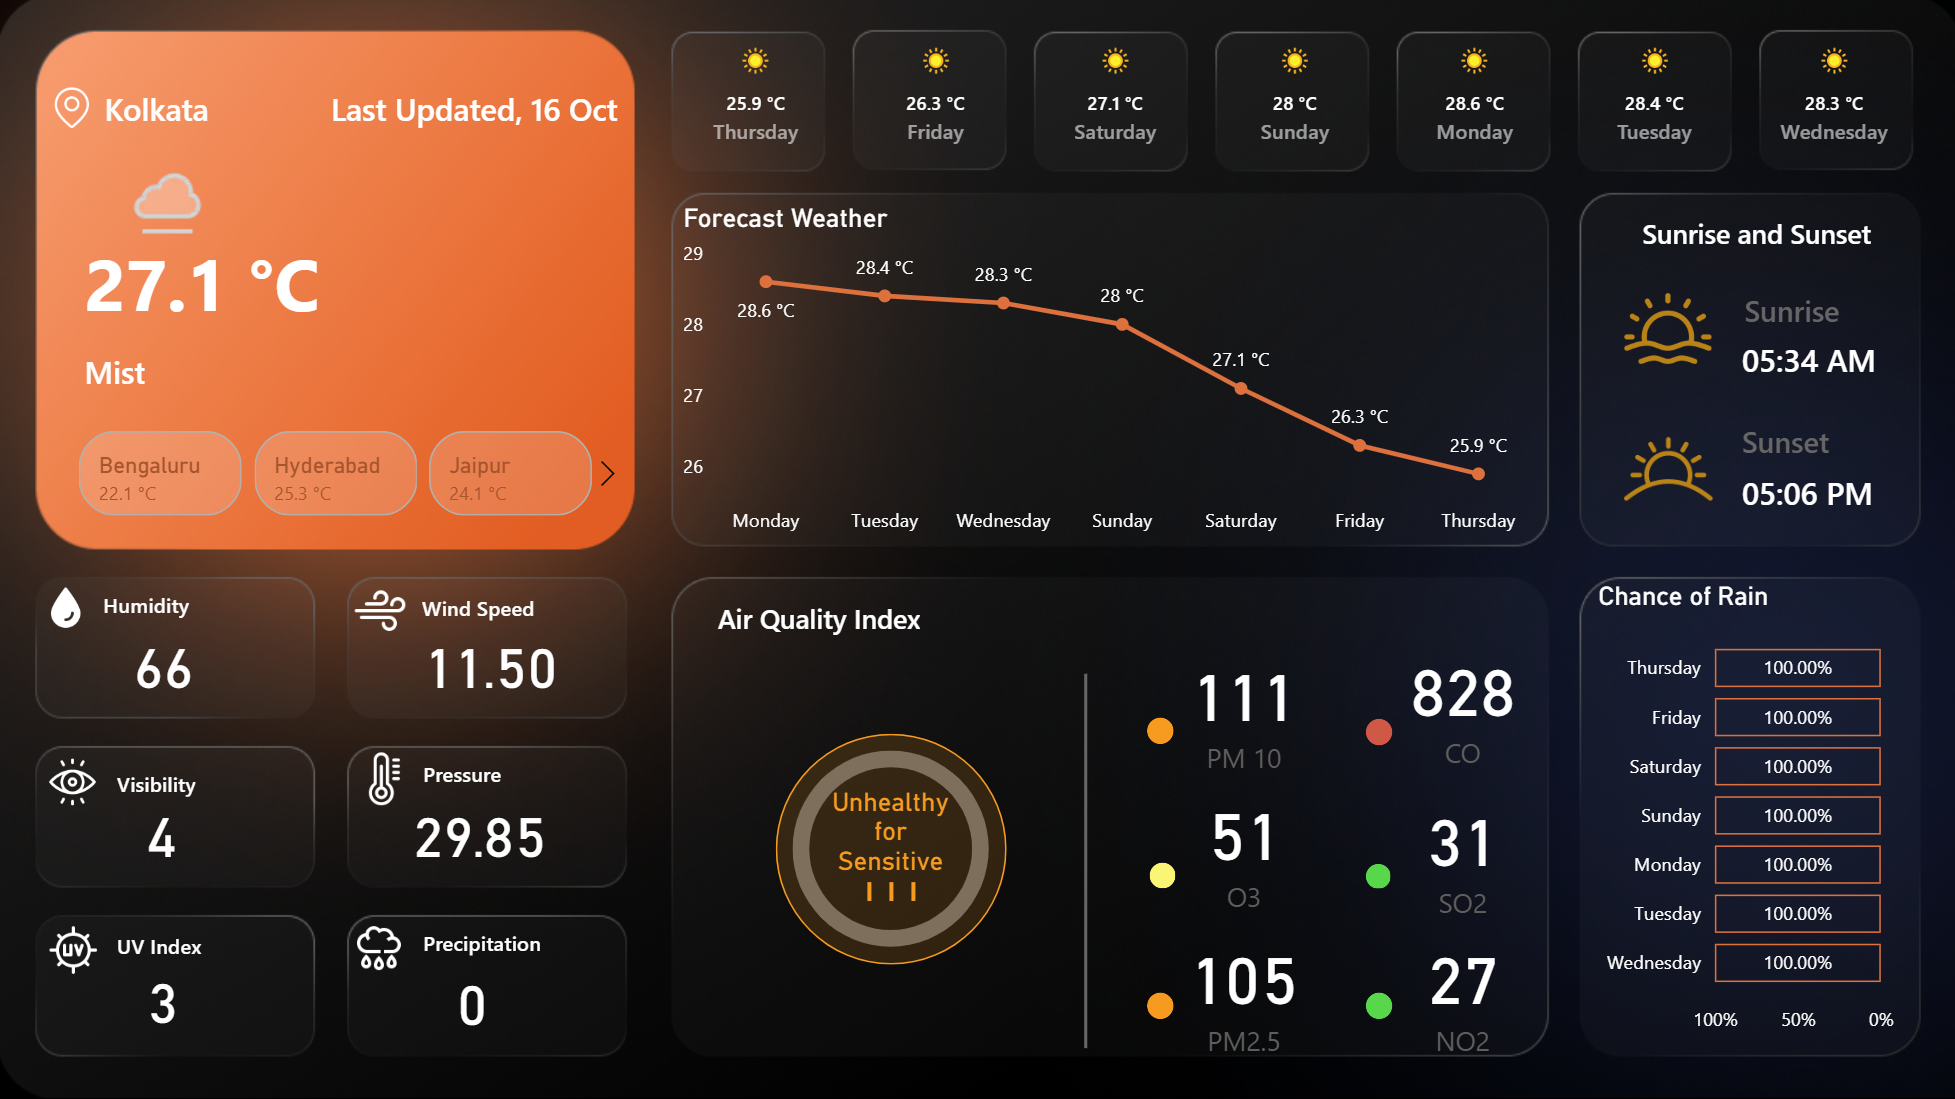

The dashboard page shown, as its layout file describes it:
{"tool":"powerbi","page":{"name":"Page 1","canvas":[1280,720],"ordinal":0},"visuals":[{"type":"advancedSlicerVisual","fields":{"Values":["Locations.location.name"]},"box":[28.4,279.1,384.5,65.6],"z":0},{"type":"shape","box":[56.7,155,230.3,60.2],"z":1000},{"type":"shape","box":[56.7,226.8,335.8,36.3],"z":2000},{"type":"shape","box":[70,54.9,128.5,36.3],"z":3000},{"type":"shape","box":[198.5,54.9,205.5,36.3],"z":4000},{"type":"image","box":[19.5,54.9,58.5,36.3],"z":5000},{"type":"cardVisual","fields":{"Data":["Min(Current.current.condition.icon)"]},"box":[56.7,83.3,104.5,87.7],"z":6000},{"type":"image","box":[21.3,492.6,56.7,39.9],"z":7000},{"type":"shape","box":[277.3,598,140.9,36.3],"z":8000},{"type":"shape","box":[277.3,488.2,128.5,36.3],"z":9000},{"type":"shape","box":[78,494.4,129.3,36.3],"z":10000},{"type":"shape","box":[276.4,380.1,128.5,36.3],"z":11000},{"type":"shape","box":[69.1,378.3,129.3,36.3],"z":12000},{"type":"shape","box":[78,600.7,129.3,36.3],"z":13000},{"type":"image","box":[19.5,380.1,50.5,38.1],"z":14000},{"type":"image","box":[222.4,378.3,54,45.2],"z":15000},{"type":"image","box":[225.9,488.2,51.4,44.3],"z":16000},{"type":"image","box":[28.4,600.7,42.5,42.5],"z":17000},{"type":"image","box":[225.9,598,45.2,45.2],"z":18000},{"type":"cardVisual","fields":{"Data":["Sum(Current.current.humidity)"]},"box":[50.5,389.5,116.6,89.4],"z":19000},{"type":"cardVisual","fields":{"Data":["Sum(Current.current.precip_in)"]},"box":[251.6,609,116.6,88.4],"z":20000},{"type":"cardVisual","fields":{"Data":["Sum(Current.current.uv)"]},"box":[50.5,608,116.6,88.4],"z":21000},{"type":"cardVisual","fields":{"Data":["Sum(Current.current.vis_km)"]},"box":[48.6,499.3,117.5,88.4],"z":22000},{"type":"cardVisual","fields":{"Data":["Sum(Current.current.pressure_in)"]},"box":[251.6,499.3,126.3,88.4],"z":23000},{"type":"cardVisual","fields":{"Data":["Sum(Current.current.wind_kph)"]},"box":[251.6,389.8,140.9,88.6],"z":24000},{"type":"advancedSlicerVisual","fields":{"Values":["Forecast_Day.Day_Name"]},"box":[434.2,21.4,823.7,94.2],"z":25000},{"type":"lineChart","title":"Forecast Weather","fields":{"Y":["Sum(Forecast_Day.forecast.forecastday.day.avgtemp_c)"],"Category":["Forecast_Day.Day_Name"]},"box":[442.1,134.9,558.7,225.4],"z":26000},{"type":"shape","box":[1045.2,136.8,201.3,36.6],"z":27000},{"type":"shape","box":[1137.6,184,97.3,42.4],"z":28000},{"type":"shape","box":[1135.7,215.8,97.3,42.4],"z":29000},{"type":"shape","box":[1135.7,269.7,97.3,42.4],"z":30000},{"type":"shape","box":[1135.7,302.5,97.3,42.4],"z":31000},{"type":"image","box":[1045.2,264.9,86.7,86.7],"z":32000},{"type":"image","box":[1050.9,184,75.1,66.5],"z":33000},{"type":"hundredPercentStackedBarChart","title":"Chance of Rain","fields":{"Category":["Forecast_Day.Day_Name"],"Y":["_Measures.Left_Value_Rain","Sum(Forecast_Day.forecast.forecastday.day.daily_chance_of_rain)"]},"box":[1037.4,380.5,209,304.4],"z":34000},{"type":"shape","box":[434.4,387.2,201.3,36.6],"z":35000},{"type":"card","fields":{"Values":["Sum(Current.current.air_quality.pm10)"]},"box":[765.6,418.3,92.5,93.4],"z":36000},{"type":"card","fields":{"Values":["Sum(Current.current.air_quality.o3)"]},"box":[765.8,508.6,92.5,93.4],"z":37000},{"type":"card","fields":{"Values":["Sum(Current.current.air_quality.so2)"]},"box":[908.4,512.5,92.5,93.4],"z":38000},{"type":"card","fields":{"Values":["Sum(Current.current.air_quality.no2)"]},"box":[908.4,602,92.5,93.4],"z":39000},{"type":"card","fields":{"Values":["Sum(Current.current.air_quality.co)"]},"box":[908.4,415.2,92.5,93.4],"z":40000},{"type":"card","fields":{"Values":["Sum(Current.current.air_quality.pm2_5)"]},"box":[765.8,602,92.5,93.4],"z":41000},{"type":"shape","box":[748.5,470.1,17.3,17.3],"z":42000},{"type":"shape","box":[748.5,649.2,17.3,17.3],"z":43000},{"type":"shape","box":[750.4,564.5,17,17],"z":44000},{"type":"shape","box":[891,471,17.3,17.3],"z":45000},{"type":"shape","box":[891,565.4,16.4,16.4],"z":46000},{"type":"shape","box":[891,649.2,17.3,17.3],"z":47000},{"type":"shape","box":[672.4,442.1,73.2,243.7],"z":48000},{"type":"card","fields":{"Values":["Sum(Current.current.air_quality.pm10)"]},"box":[535.6,515.4,92.5,93.4],"z":49000},{"type":"donutChart","fields":{"Y":["Sum(Current.current.air_quality.pm10)","_Measures.Left_value_PM_10"]},"box":[497.1,471,169.5,169.5],"z":50000},{"type":"shape","box":[506.7,480.7,150.3,150.3],"z":51000}]}

Visuals, with their boxes in screenshot pixels (x1, y1, x2, y2), scaled from the page's 1280x720 canvas onto the 1955x1099 screenshot:
advancedSlicerVisual - Locations.location.name: (43,426,631,526)
shape: (87,237,438,328)
shape: (87,346,599,402)
shape: (107,84,303,139)
shape: (303,84,617,139)
image: (30,84,119,139)
cardVisual - Min(Current.current.condition.icon): (87,127,246,261)
image: (33,752,119,813)
shape: (424,913,639,968)
shape: (424,745,620,801)
shape: (119,755,317,810)
shape: (422,580,618,636)
shape: (106,577,303,633)
shape: (119,917,317,972)
image: (30,580,107,638)
image: (340,577,422,646)
image: (345,745,424,813)
image: (43,917,108,982)
image: (345,913,414,982)
cardVisual - Sum(Current.current.humidity): (77,595,255,731)
cardVisual - Sum(Current.current.precip_in): (384,930,562,1065)
cardVisual - Sum(Current.current.uv): (77,928,255,1063)
cardVisual - Sum(Current.current.vis_km): (74,762,254,897)
cardVisual - Sum(Current.current.pressure_in): (384,762,577,897)
cardVisual - Sum(Current.current.wind_kph): (384,595,599,730)
advancedSlicerVisual - Forecast_Day.Day_Name: (663,33,1921,176)
"Forecast Weather" lineChart: (675,206,1529,550)
shape: (1596,209,1904,265)
shape: (1738,281,1886,346)
shape: (1735,329,1883,394)
shape: (1735,412,1883,476)
shape: (1735,462,1883,526)
image: (1596,404,1729,537)
image: (1605,281,1720,382)
"Chance of Rain" hundredPercentStackedBarChart: (1584,581,1904,1045)
shape: (663,591,971,647)
card - Sum(Current.current.air_quality.pm10): (1169,638,1311,781)
card - Sum(Current.current.air_quality.o3): (1170,776,1311,919)
card - Sum(Current.current.air_quality.so2): (1387,782,1529,925)
card - Sum(Current.current.air_quality.no2): (1387,919,1529,1061)
card - Sum(Current.current.air_quality.co): (1387,634,1529,776)
card - Sum(Current.current.air_quality.pm2_5): (1170,919,1311,1061)
shape: (1143,718,1170,744)
shape: (1143,991,1170,1017)
shape: (1146,862,1172,888)
shape: (1361,719,1387,745)
shape: (1361,863,1386,888)
shape: (1361,991,1387,1017)
shape: (1027,675,1139,1047)
card - Sum(Current.current.air_quality.pm10): (818,787,959,929)
donutChart - Sum(Current.current.air_quality.pm10) x _Measures.Left_value_PM_10: (759,719,1018,978)
shape: (774,734,1003,963)
